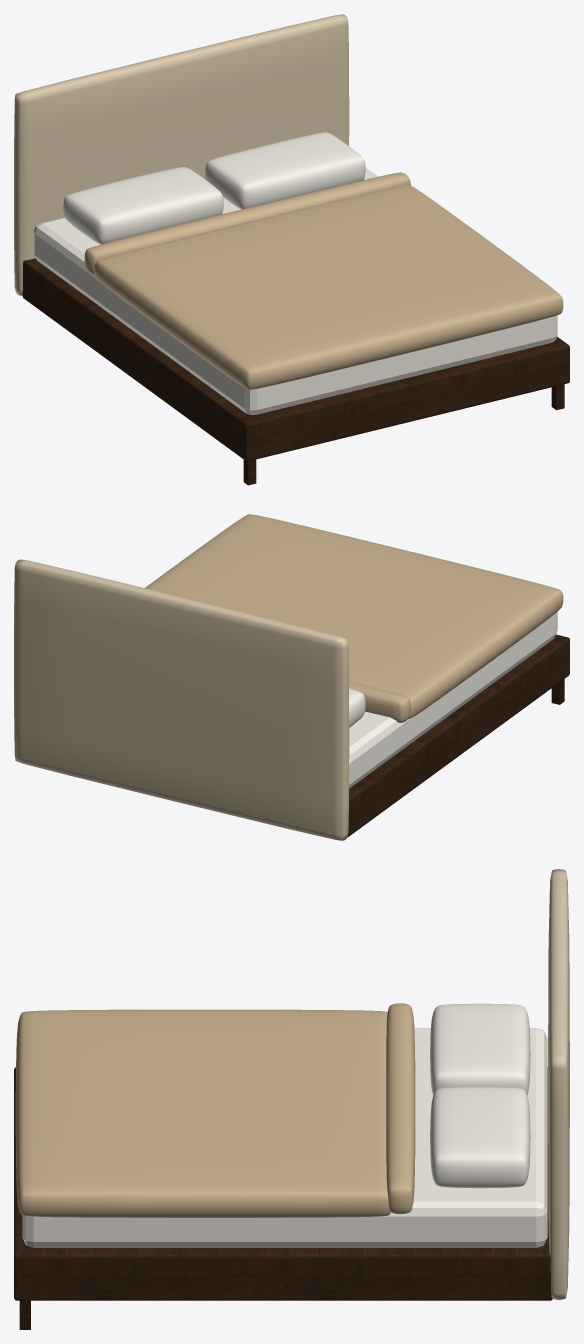
File: bed_m.glb
3 views of the same model, one above another, from view 1: azimuth 30°, elevation 25°; view 2: azimuth 150°, elevation 25°; view 3: azimuth 270°, elevation 25° (orthographic). The views are drawn at different scales.
Visible parts, largest first — view 1: bed_m_duvet, bed_m_head, bed_m_frame, bed_m_mattress, bed_m_pillow0, bed_m_pillow1, bed_m_fold; view 2: bed_m_head, bed_m_duvet, bed_m_frame, bed_m_mattress, bed_m_fold, bed_m_pillow0; view 3: bed_m_duvet, bed_m_frame, bed_m_mattress, bed_m_pillow1, bed_m_head, bed_m_pillow0, bed_m_fold.
Boxes of the visible parts, x1,y1,x2,y2 form: bed_m_duvet: (94,184,563,389); bed_m_head: (14,14,349,295); bed_m_frame: (22,258,569,461); bed_m_mattress: (34,168,557,414); bed_m_pillow0: (63,167,223,244); bed_m_pillow1: (205,132,365,209); bed_m_fold: (84,172,410,274); bed_m_head: (14,559,349,840); bed_m_duvet: (145,514,563,719); bed_m_frame: (347,634,569,837); bed_m_mattress: (349,612,557,788); bed_m_fold: (349,681,410,722); bed_m_pillow0: (349,688,365,727); bed_m_duvet: (15,1009,390,1217); bed_m_frame: (14,1067,552,1300); bed_m_mattress: (22,1028,547,1247); bed_m_pillow1: (430,1087,530,1188); bed_m_head: (548,869,569,1299); bed_m_pillow0: (430,1003,530,1095); bed_m_fold: (386,1003,415,1214).
Bounding box in the file's own units: 1.64 × 1.08 × 1.98.
Materials: 4 (1 with a texture image).
